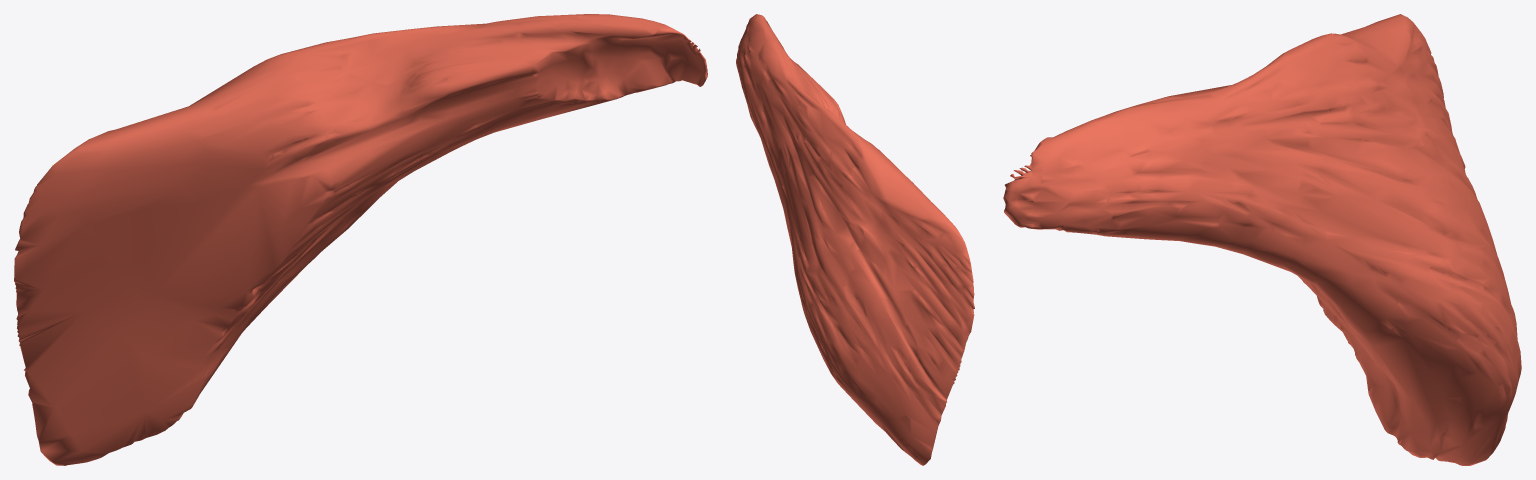
File: infraspinatus.glb
3 views of the same model, side by side, from view 1: azimuth 30°, elevation 25°; view 2: azimuth 150°, elevation 25°; view 3: azimuth 270°, elevation 25° (orthographic). The views are drawn at different scales.
Parts seen in each view (by area): view 1: Infraspinatus muscle.l; view 2: Infraspinatus muscle.l; view 3: Infraspinatus muscle.l.
Part boxes in pixels (x1=…): Infraspinatus muscle.l: x1=14, y1=14, x2=707, y2=465; Infraspinatus muscle.l: x1=736, y1=14, x2=974, y2=465; Infraspinatus muscle.l: x1=1003, y1=14, x2=1521, y2=465.
Bounding box in the file's own units: 0.1325 × 0.1136 × 0.0918.
